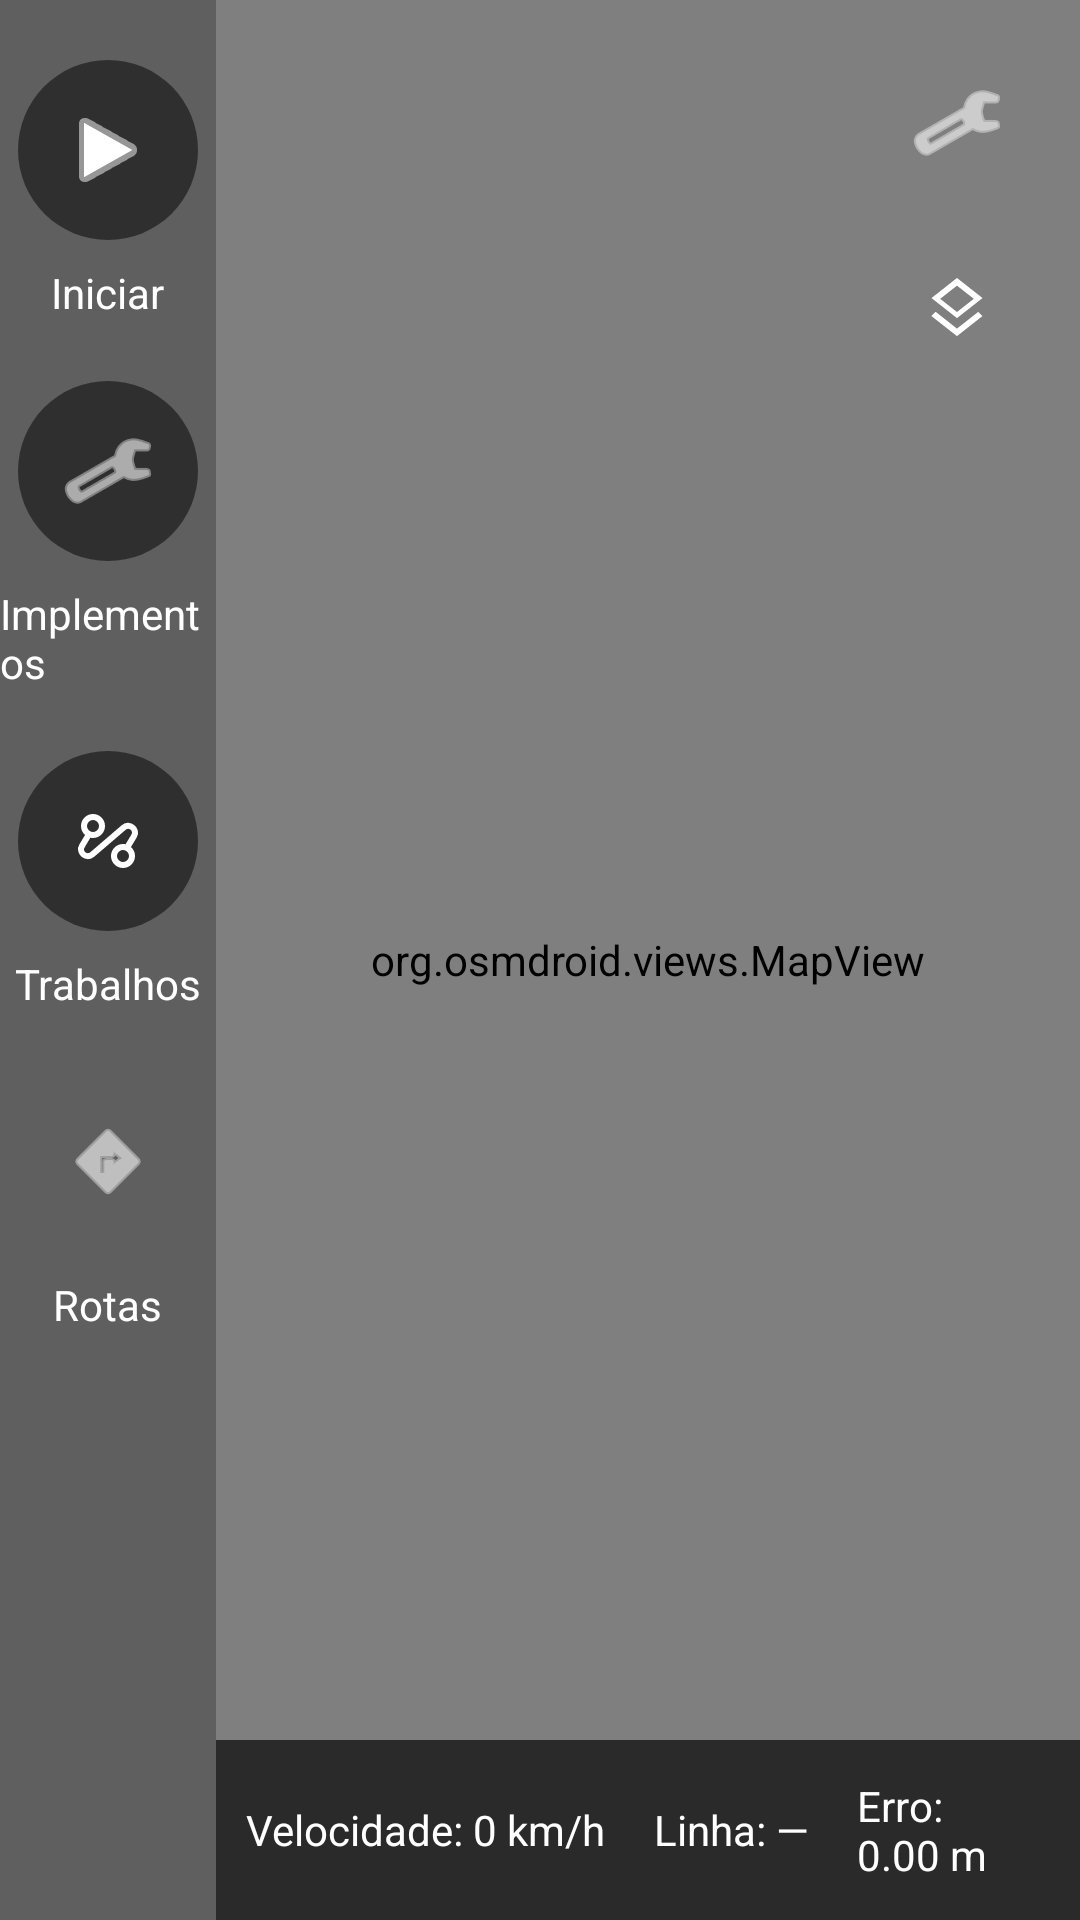

Point at icon controls on the screen. Image size 1080×1920, points as (x,y).
Camadas do mapa: (957,307)
Configurações: (957,123)
